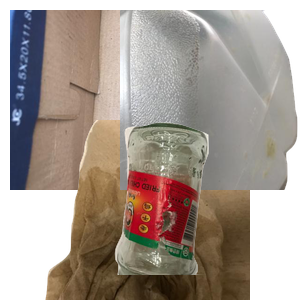cardboard: (10, 10, 250, 190)
glass: (112, 120, 300, 300)
plastic: (120, 10, 300, 190)
trash: (43, 120, 283, 300)
